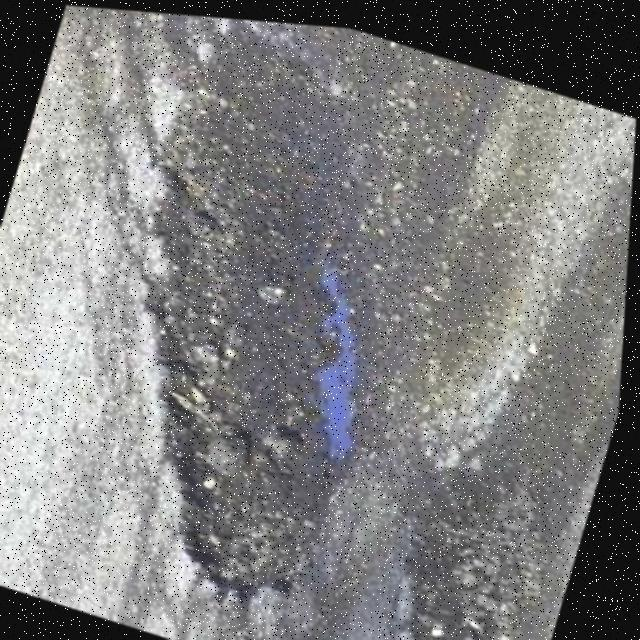pothole: (48, 27, 468, 623)
